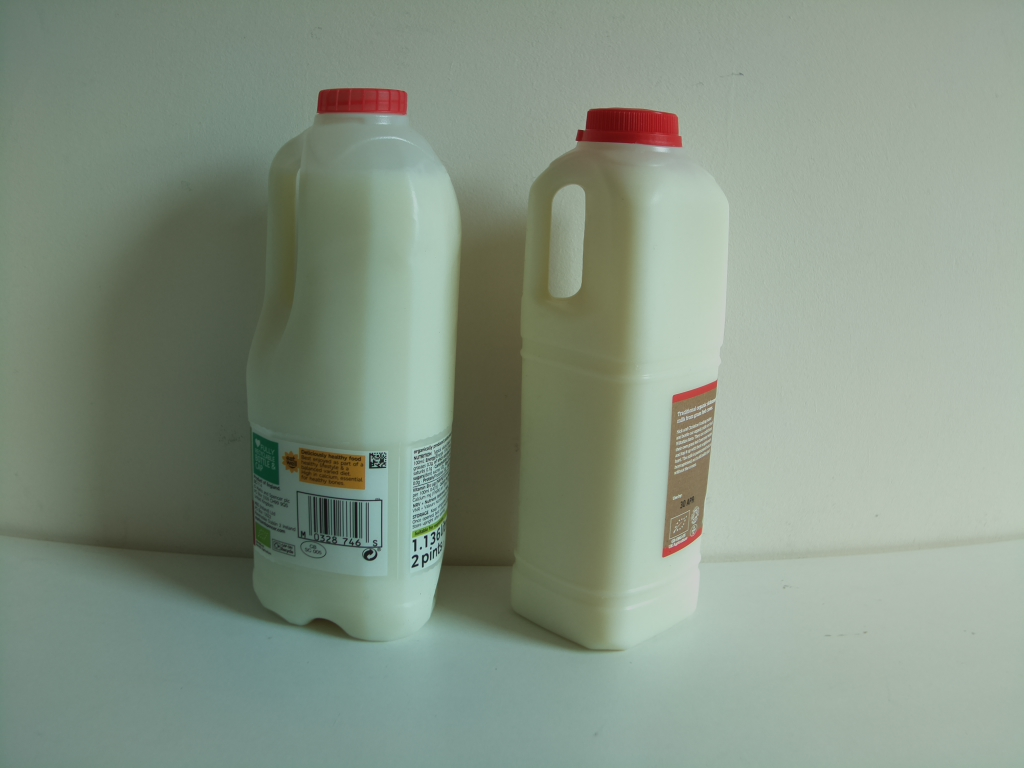milk: (238, 77, 473, 654), (510, 98, 738, 656)
